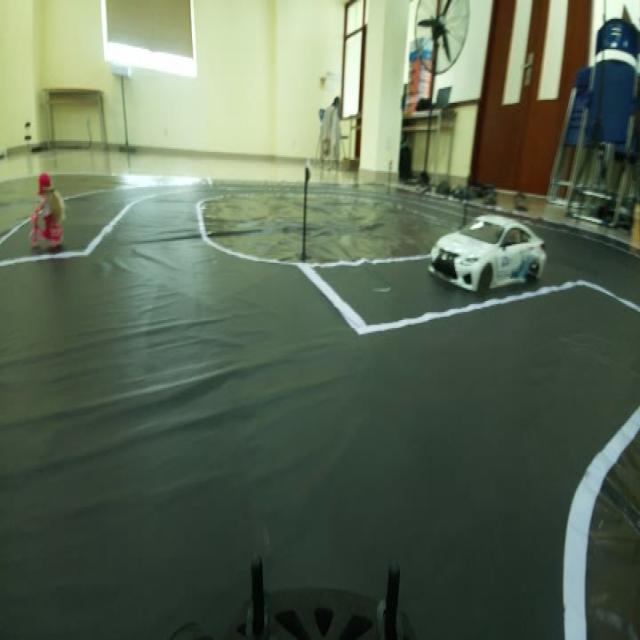car: (416, 210, 552, 302)
